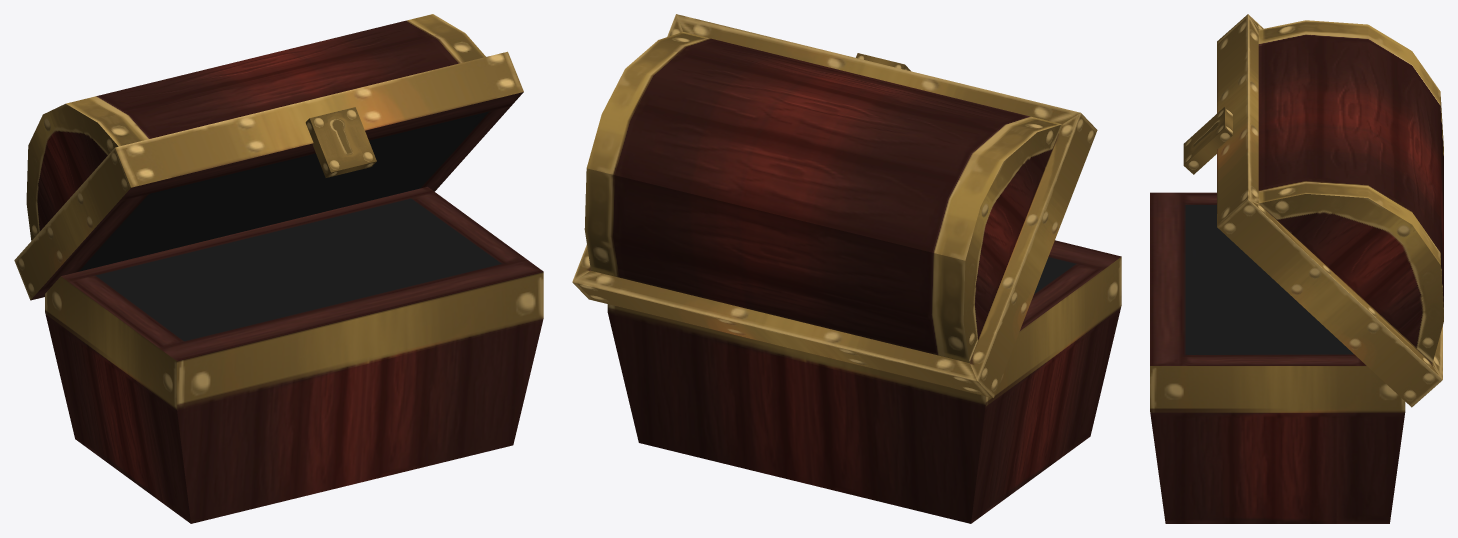
Rendered from chest.FBX.
3 views of the same model, side by side, from view 1: azimuth 30°, elevation 25°; view 2: azimuth 150°, elevation 25°; view 3: azimuth 270°, elevation 25° (orthographic). The views are drawn at different scales.
Visible parts, largest first — view 1: Box005, Box006, Box007; view 2: Box006, Box005; view 3: Box006, Box005, Box007.
Boxes of the visible parts, x1=… form: Box005: x1=45, y1=186, x2=543, y2=523; Box006: x1=14, y1=14, x2=523, y2=300; Box007: x1=305, y1=107, x2=376, y2=177; Box006: x1=572, y1=14, x2=1097, y2=397; Box005: x1=607, y1=240, x2=1121, y2=523; Box006: x1=1217, y1=14, x2=1443, y2=407; Box005: x1=1150, y1=192, x2=1405, y2=523; Box007: x1=1183, y1=107, x2=1232, y2=174.
Bounding box in the file's own units: 220 × 189 × 147.
